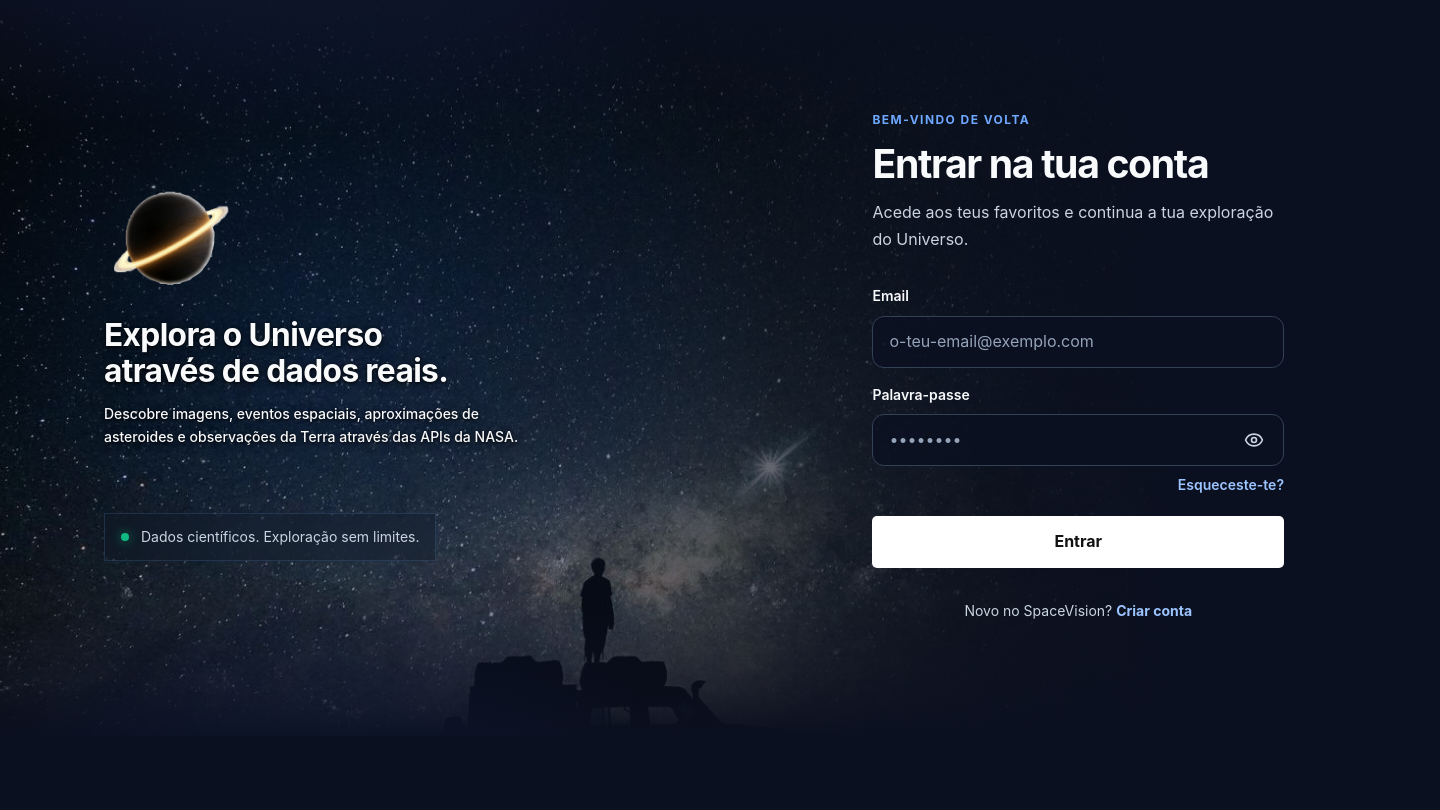
it: Login › apresenta a mensagem de erro devolvida pela API
Type "angela@example.com" into the field labelled "Email". click: (1078, 342)
box: [872, 316, 1284, 368]
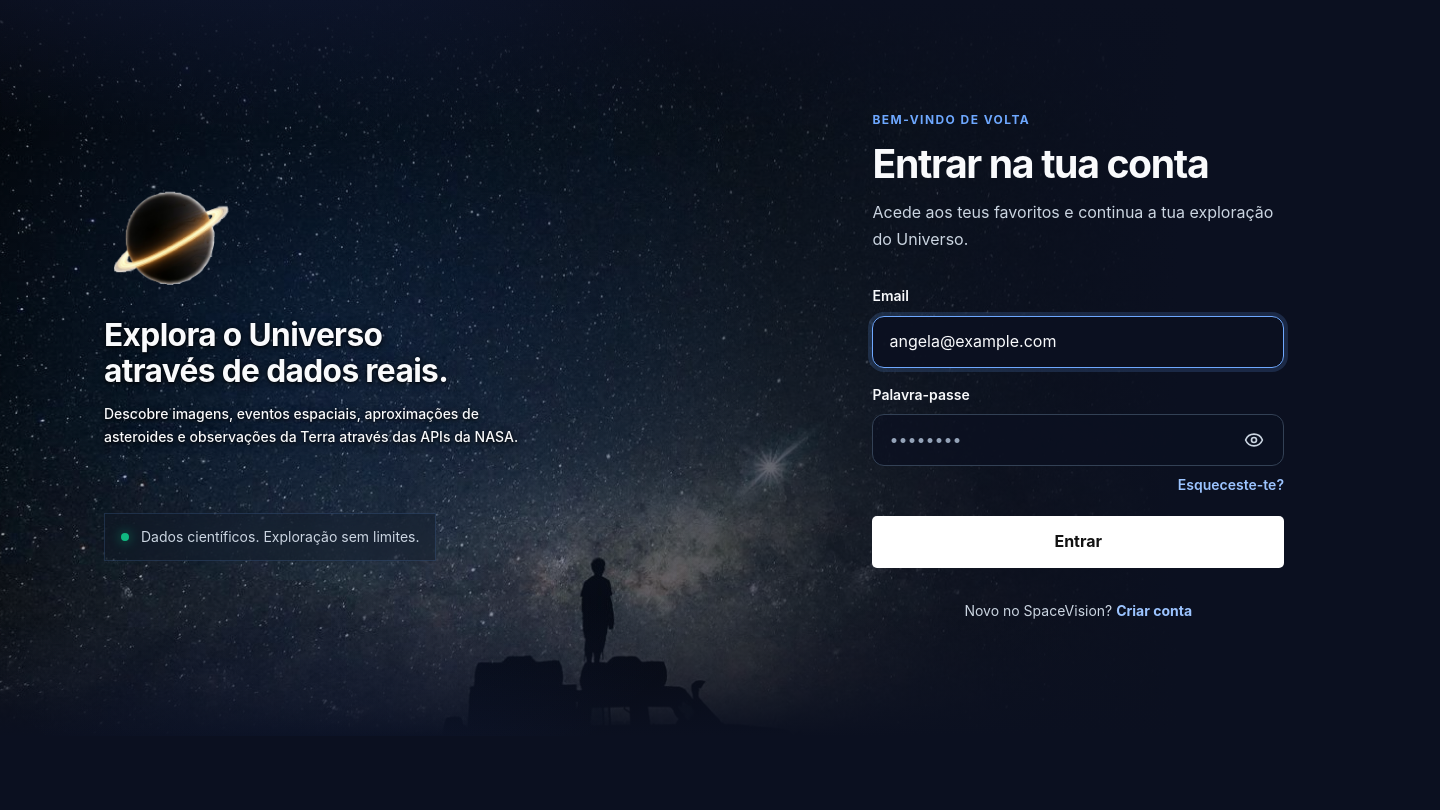
Type "PasswordErrada" into the password field labelled "Palavra-passe". click: (1078, 440)
box: [872, 414, 1284, 466]
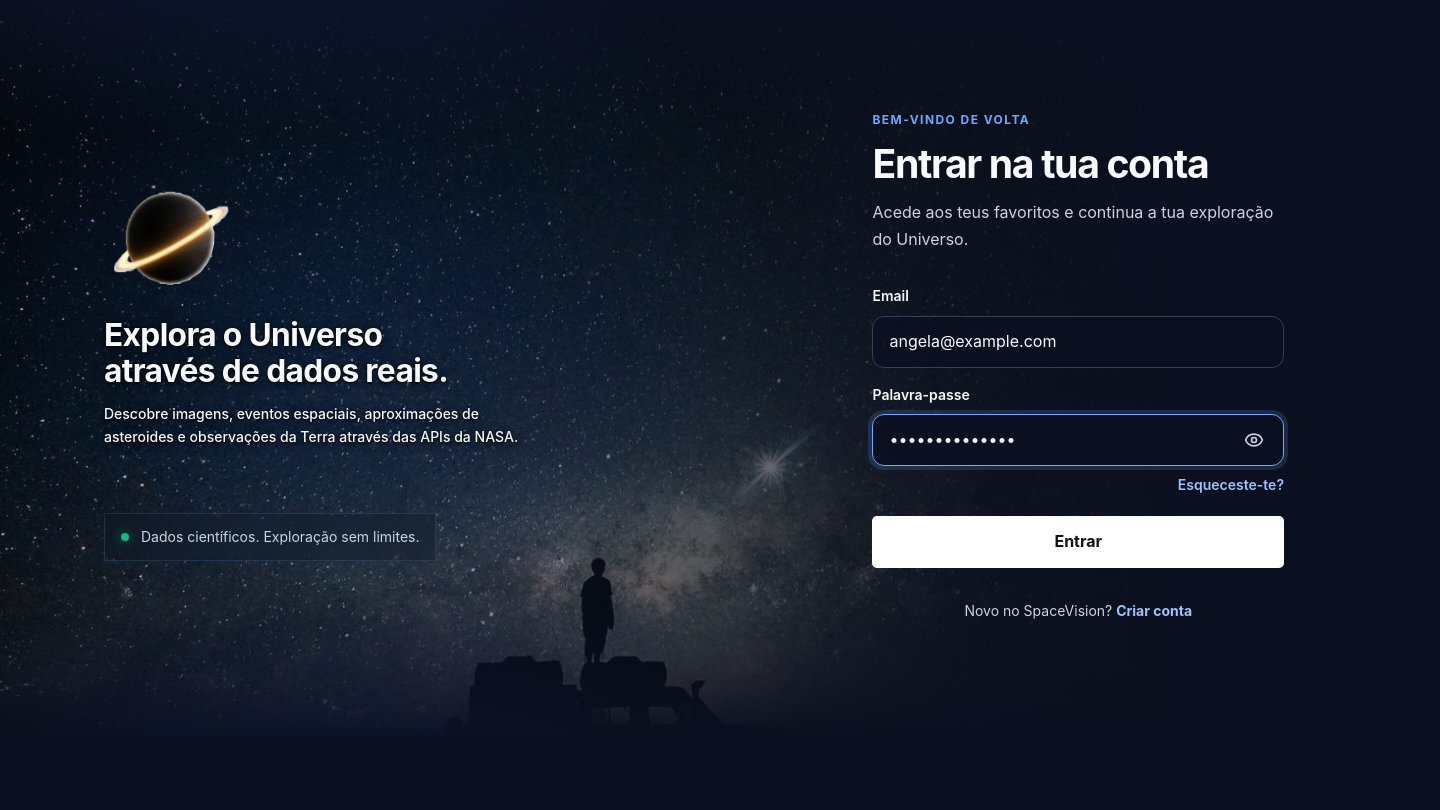
Click the button "Entrar". click: (1078, 542)
box: [872, 516, 1284, 568]
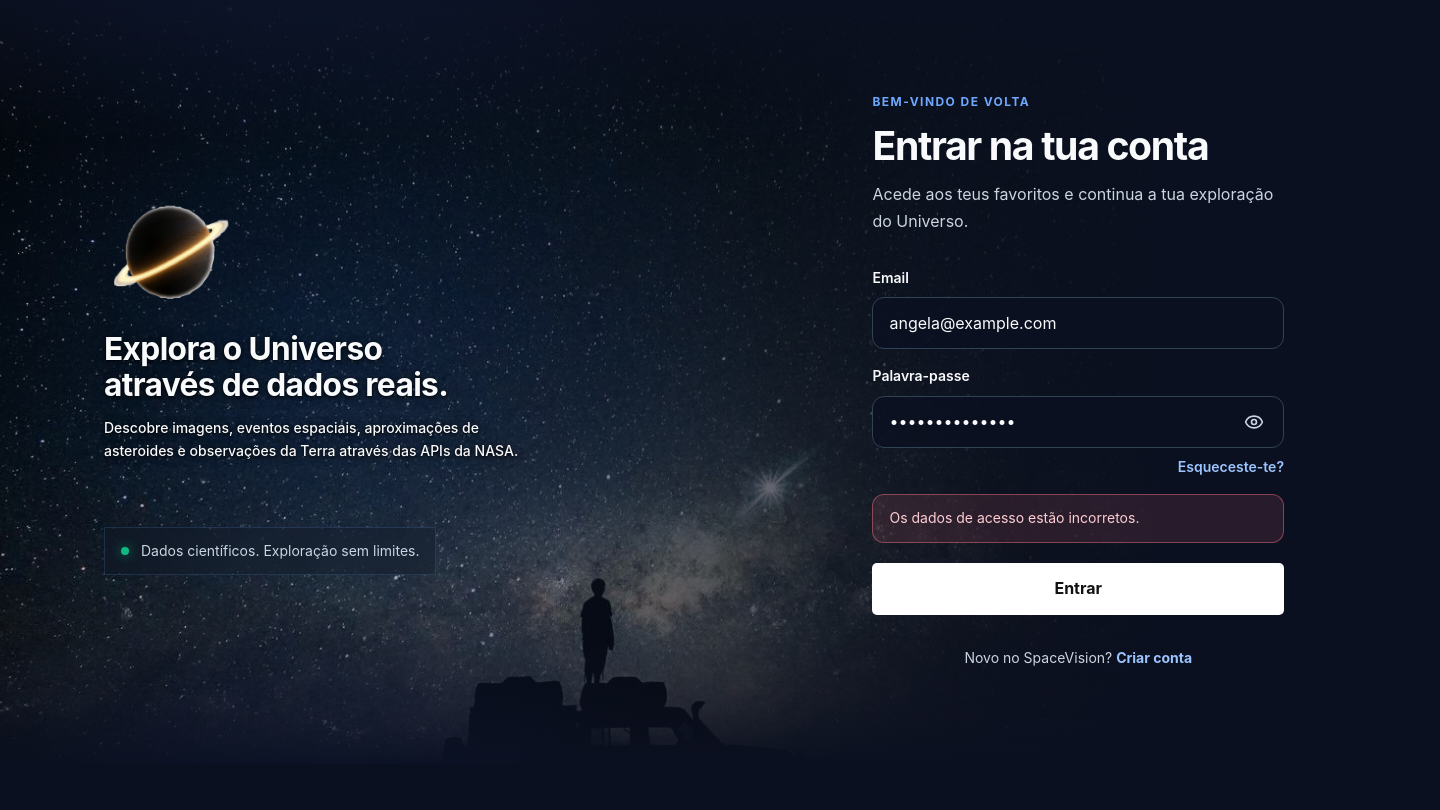
Expected: the button "Entrar" is enabled, [872, 562, 1284, 614]
Expected: the message reads "Os dados de acesso estão incorretos.", [890, 509, 1140, 526]
